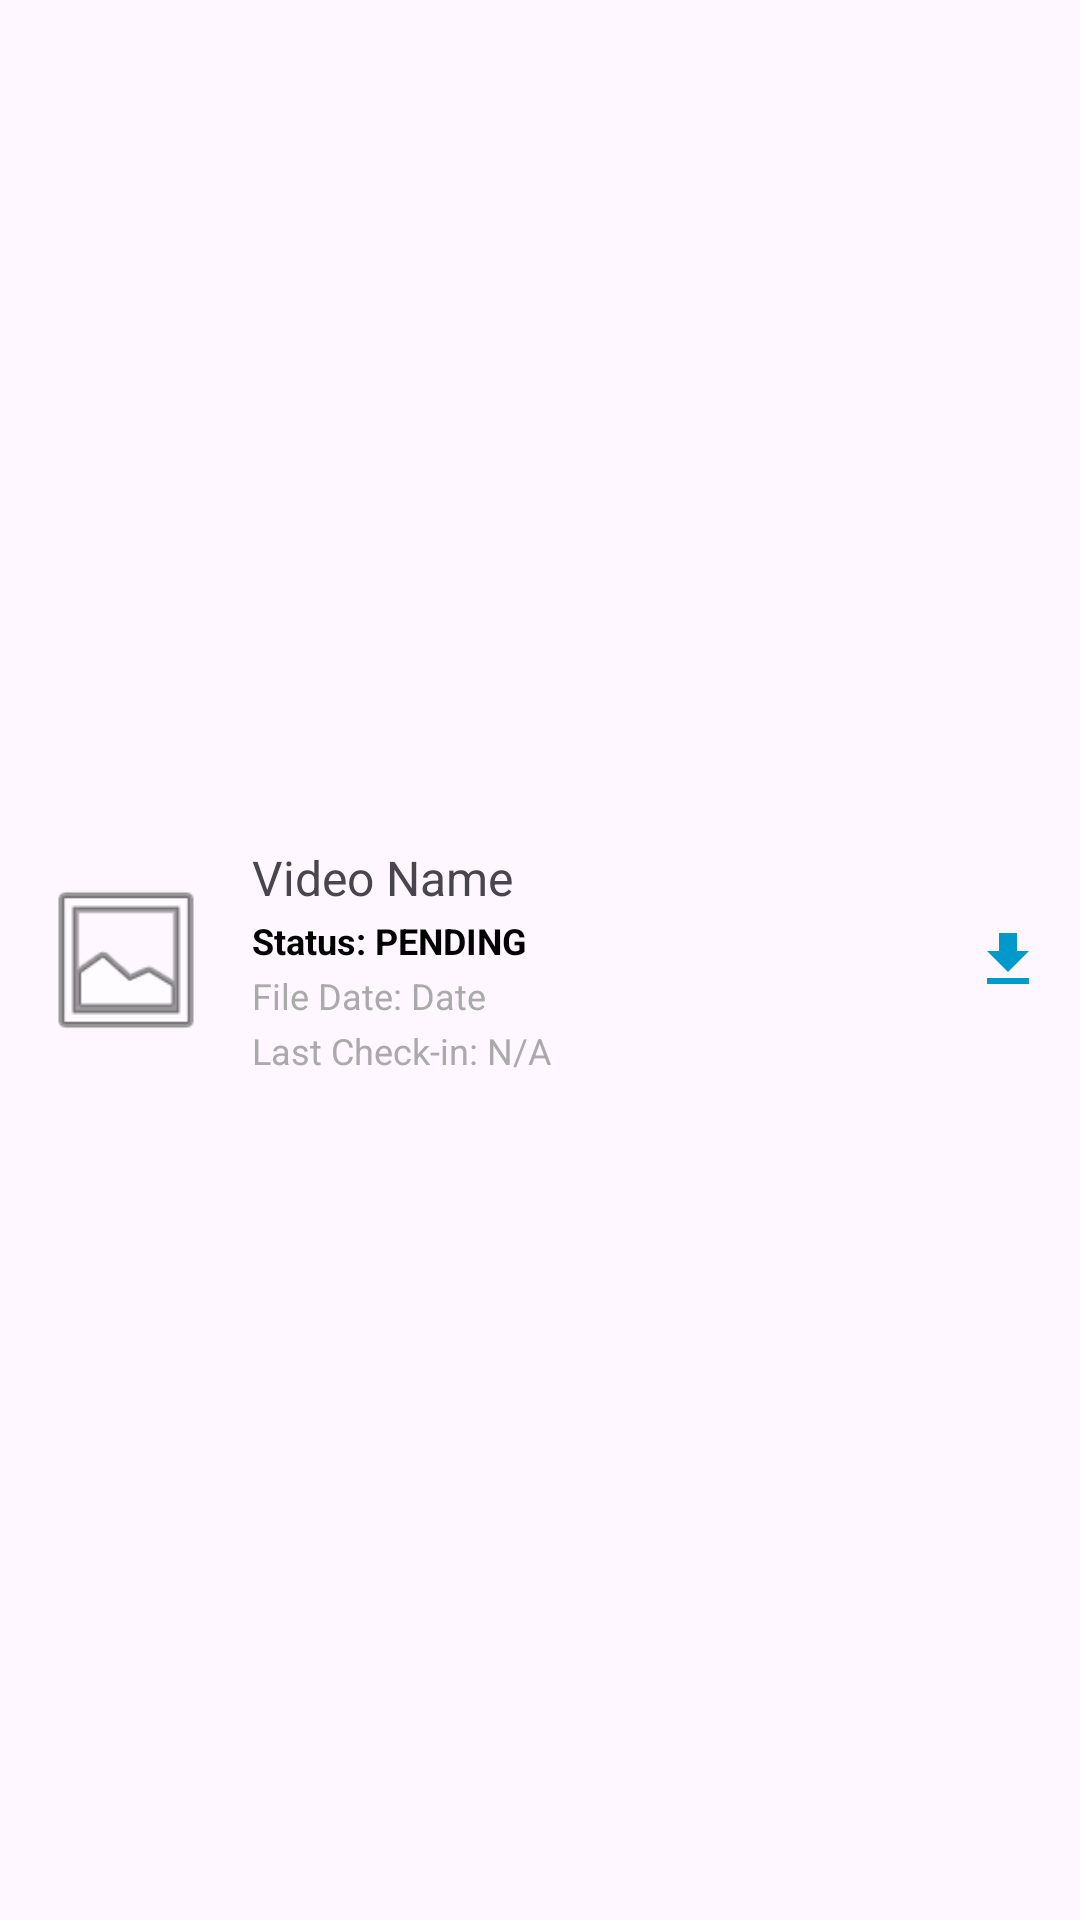

Where to tap for icons on this 1080x1920 app screen, as (x=x, y=y):
gallery: (x=126, y=960)
